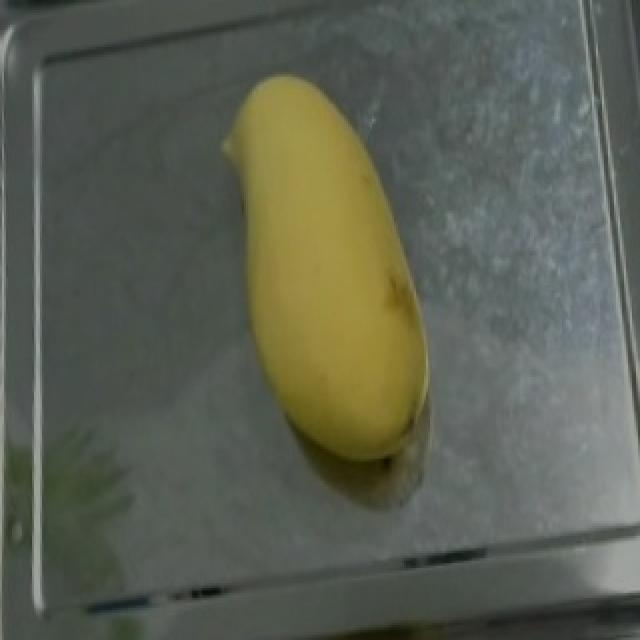fruit: (194, 47, 440, 429)
